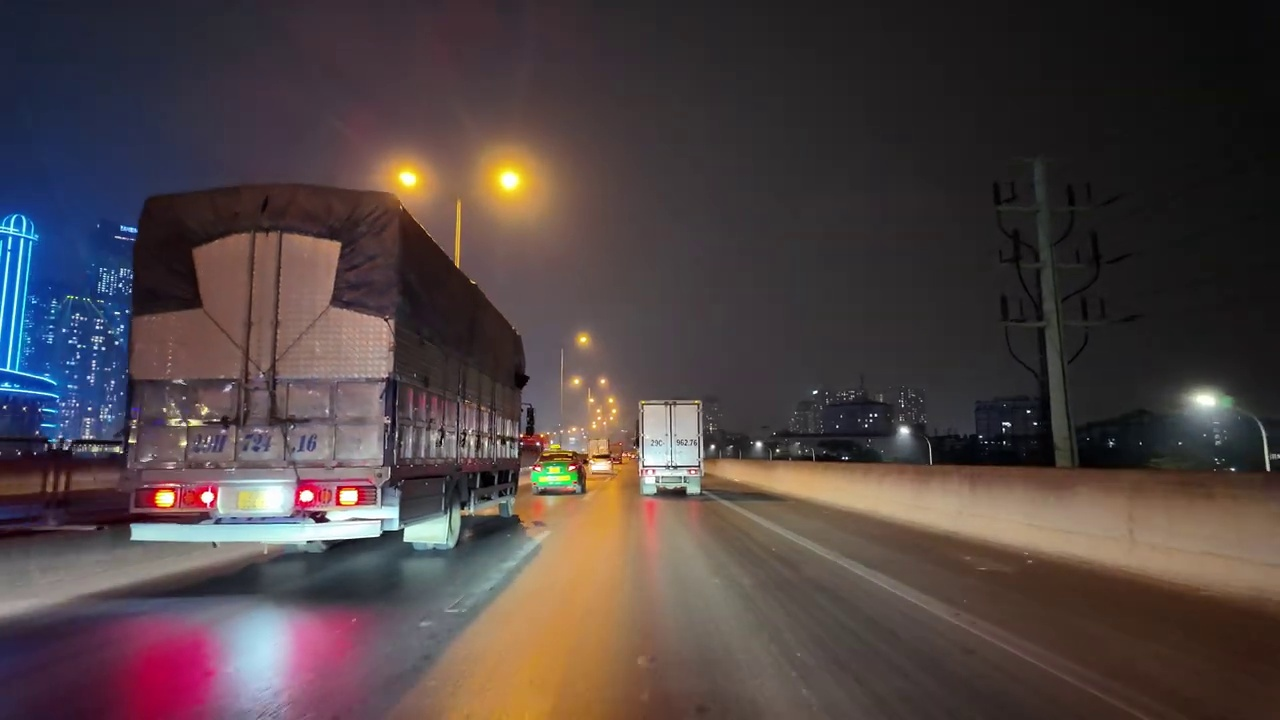acesa: (484, 158, 533, 205), (388, 160, 430, 201), (1184, 385, 1225, 417), (572, 328, 596, 353)
